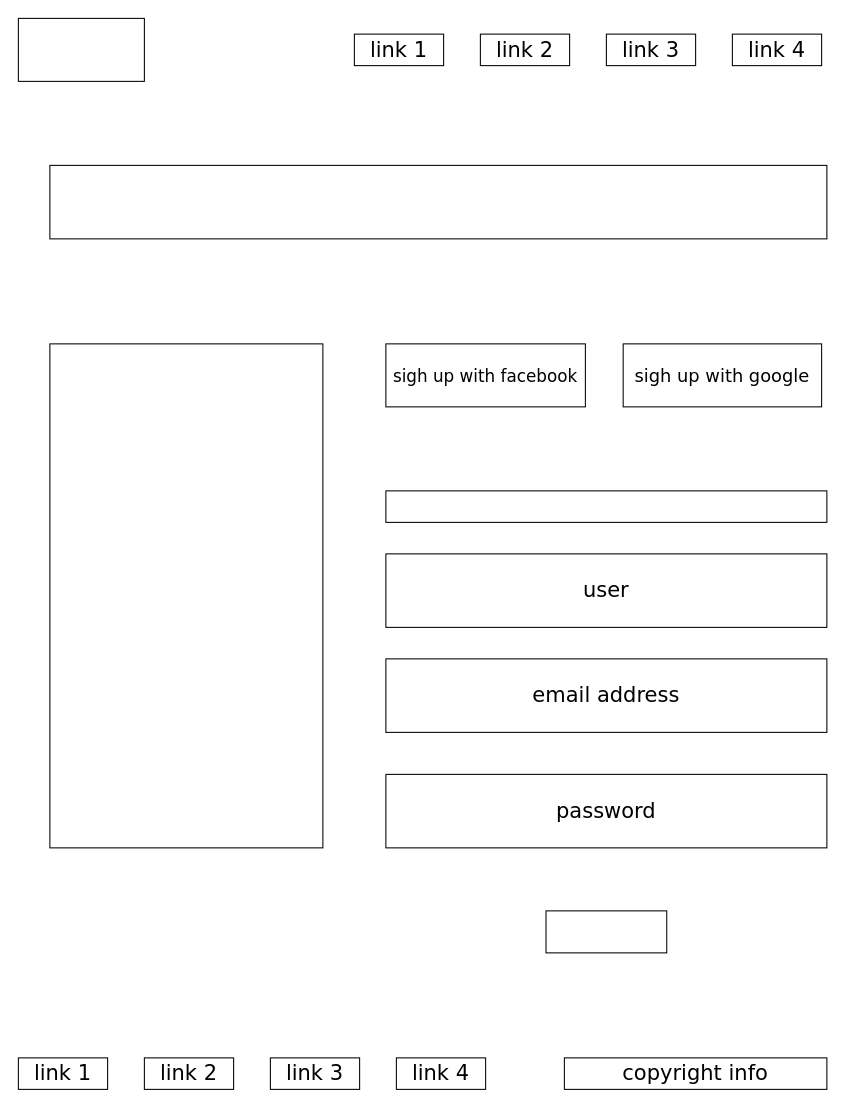
Some shapes in this 845 by 1108 pixel diagram are drawn without their labels. Here are the shapes that lost their labels. From the top down, the centre of each, then its label:
At point 80,49: "logo".
At point 438,201: "created new account".
At point 606,506: "created new account if you don't have".
At point 186,595: "banner".
At point 606,931: "sigh up".
